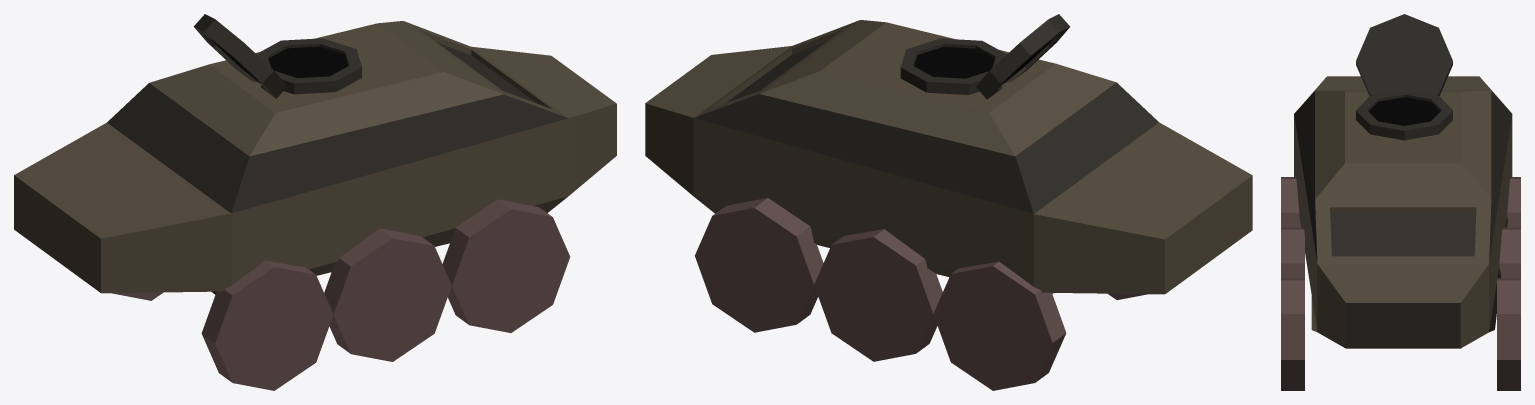
Rendered from SM_Prop_BTR.fbx.
3 renders of one model, left to right at view 1: azimuth 30°, elevation 25°; view 2: azimuth 150°, elevation 25°; view 3: azimuth 270°, elevation 25°, orthographic. The views are drawn at different scales.
Visible parts, largest first — view 1: Cylinder.005; view 2: Cylinder.005; view 3: Cylinder.005.
Boxes of the visible parts, x1,y1,x2,y2 form: Cylinder.005: (14, 14, 616, 390); Cylinder.005: (645, 14, 1252, 390); Cylinder.005: (1281, 14, 1520, 390).
Size of the model in its own units: 636 by 815 by 1415.
